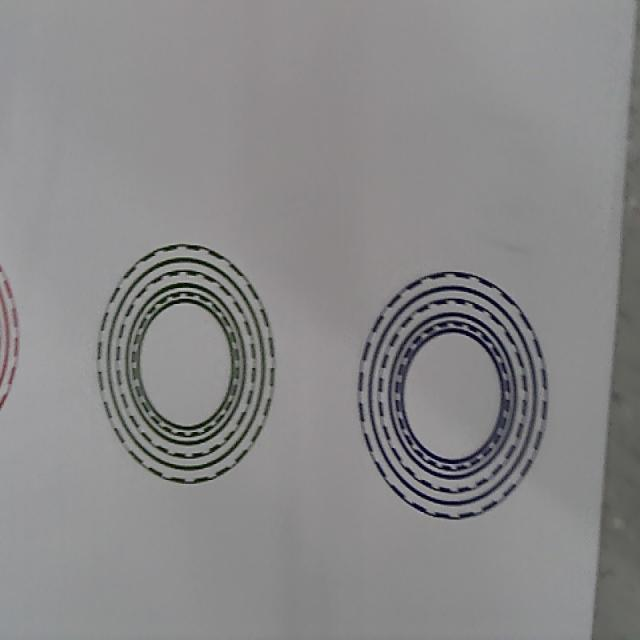b: (358, 269, 548, 520)
g: (96, 242, 275, 488)
